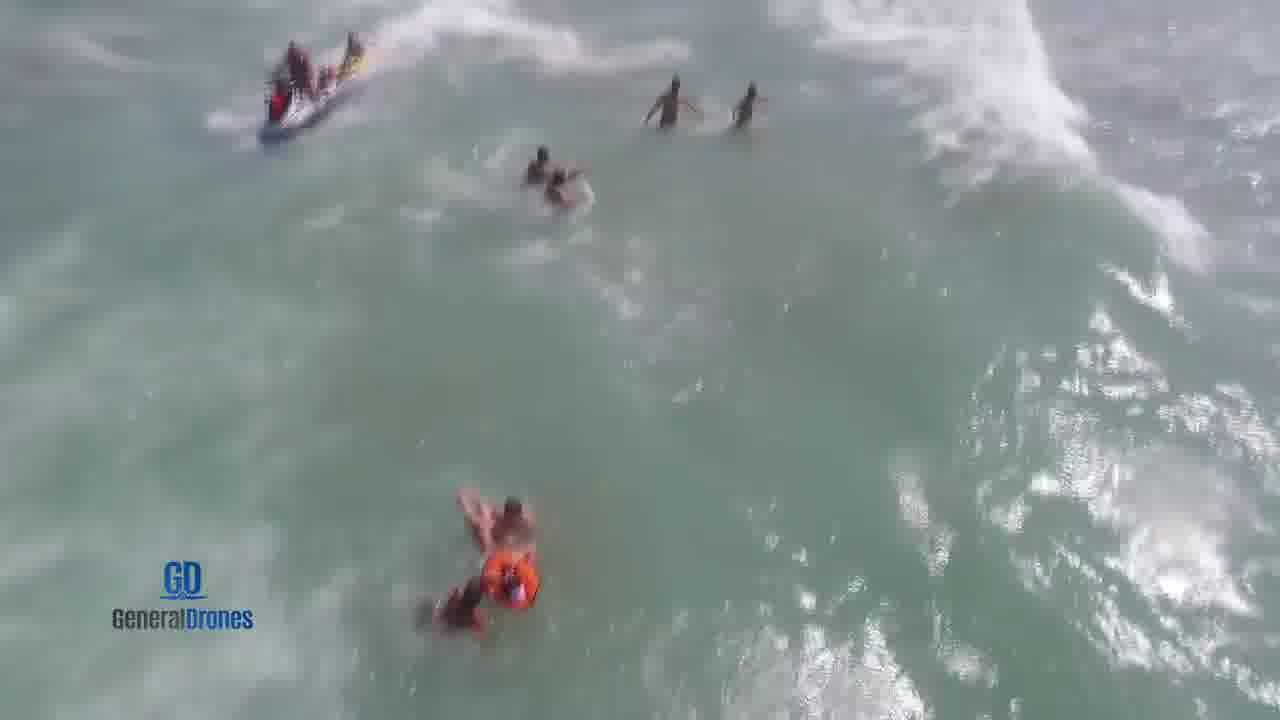swimmer: (720, 59, 784, 143), (495, 544, 568, 602), (651, 68, 695, 147), (526, 176, 593, 213), (486, 482, 554, 516), (331, 32, 383, 71), (450, 569, 479, 615), (514, 141, 550, 165)
